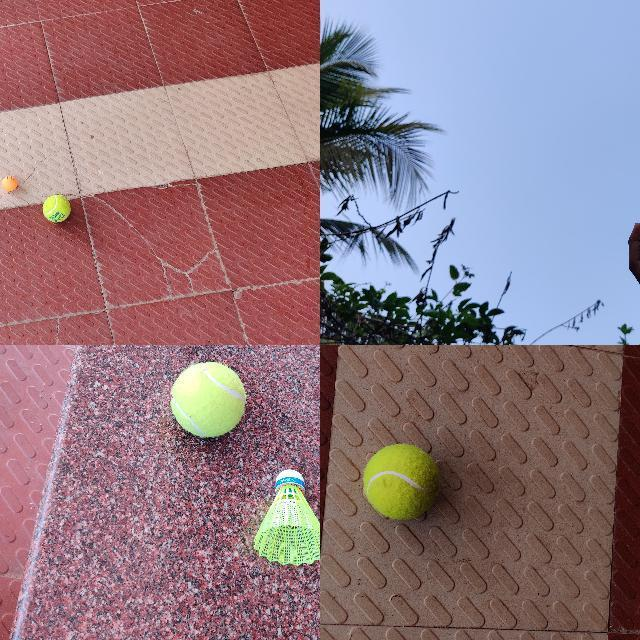tennis-ball: (362, 443, 440, 519), (170, 362, 246, 436), (42, 194, 70, 222)
